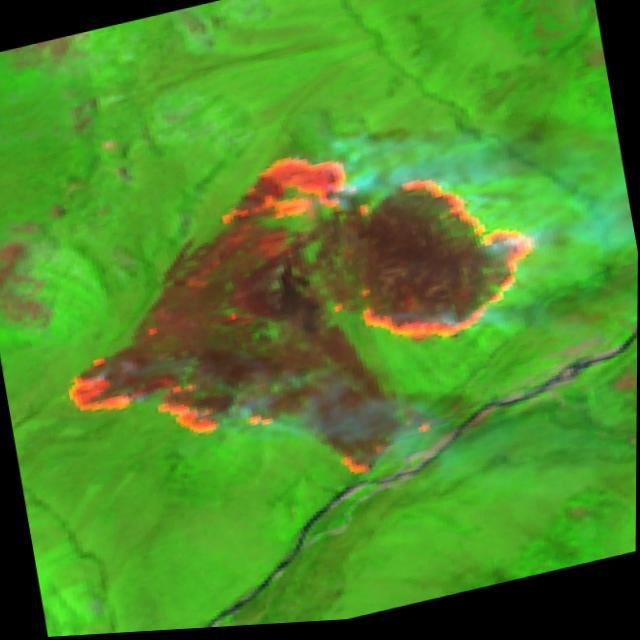fire: (24, 103, 572, 549)
